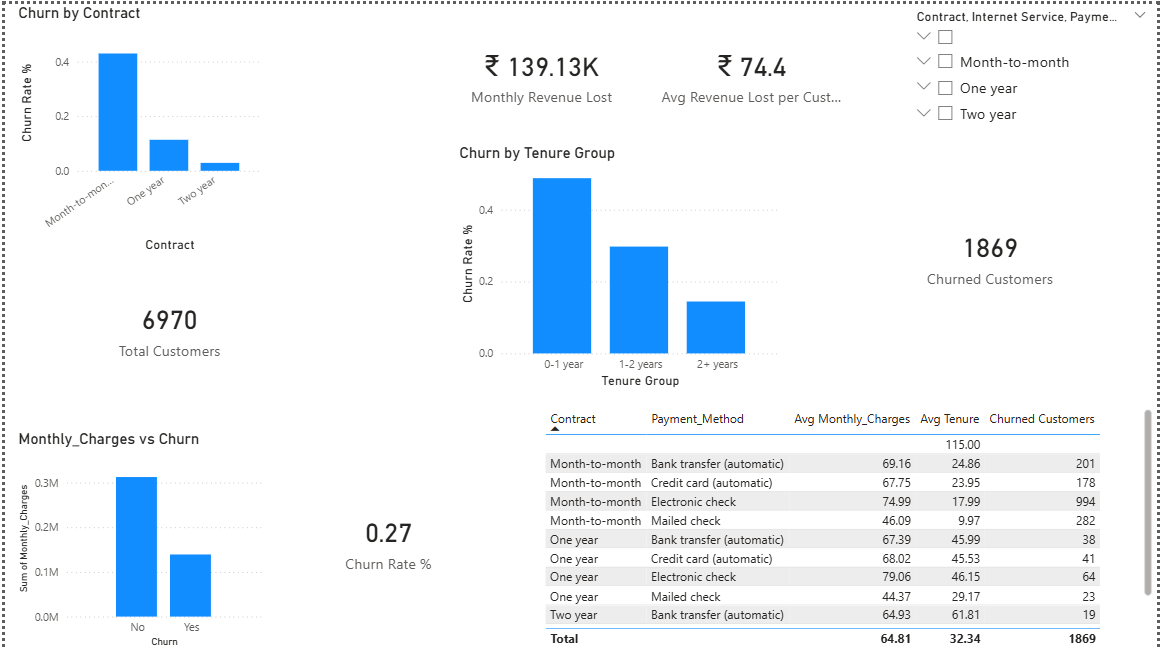

What the dashboard file says about the page in this screenshot:
{"tool":"powerbi","page":{"name":"Page 1","canvas":[1280,720],"ordinal":0},"visuals":[{"type":"clusteredColumnChart","title":"Churn by Contract","fields":{"Category":["customers.Contract"],"Y":["customers.Churn Rate %"]},"box":[10,0,280,280],"z":0},{"type":"clusteredColumnChart","title":"Churn by Tenure Group","fields":{"Category":["customers.Tenure Group"],"Y":["customers.Churn Rate %"]},"box":[500.8,155,364.7,275.9],"z":1000},{"type":"clusteredColumnChart","title":"Monthly_Charges vs Churn","fields":{"Category":["customers.Churn"],"Y":["Sum(customers.Monthly_Charges)"]},"box":[10,474,280,246],"z":2000},{"type":"tableEx","fields":{"Values":["customers.Contract","customers.Payment_Method","Avg(customers.Monthly_Charges)","Avg(customers.Tenure)","customers.Churned Customers"]},"box":[595.1,445.2,684.4,274.1],"z":3000},{"type":"slicer","fields":{"Values":["customers.Contract","customers.Internet Service","customers.Payment_Method","customers.Tenure Group"]},"box":[999.4,0,280.1,154.4],"z":4000},{"type":"card","fields":{"Values":["customers.Total Customers"]},"box":[75.7,301.3,215,116.6],"z":5000},{"type":"card","fields":{"Values":["customers.Churned Customers"]},"box":[987.3,221.1,215,116.6],"z":6000},{"type":"card","fields":{"Values":["customers.Churn Rate %"]},"box":[318,537.5,215,116.6],"z":7000},{"type":"card","fields":{"Values":["customers.Monthly Revenue Lost"]},"box":[487.6,19.7,215,116.6],"z":8000},{"type":"card","fields":{"Values":["customers.Avg Revenue Lost per Customer"]},"box":[722.3,19.7,215,116.6],"z":8001}]}

Visuals, with their boxes in screenshot pixels (x1, y1, x2, y2), scaled from the page's 1280x720 canvas onto the 1161x651 screenshot:
"Churn by Contract" clusteredColumnChart: [9,0,263,253]
"Churn by Tenure Group" clusteredColumnChart: [454,140,785,390]
"Monthly_Charges vs Churn" clusteredColumnChart: [9,429,263,650]
tableEx - customers.Contract x customers.Payment_Method: [540,403,1160,650]
slicer - customers.Contract x customers.Internet Service: [906,0,1160,140]
card - customers.Total Customers: [69,272,264,378]
card - customers.Churned Customers: [896,200,1091,305]
card - customers.Churn Rate %: [288,486,483,591]
card - customers.Monthly Revenue Lost: [442,18,637,123]
card - customers.Avg Revenue Lost per Customer: [655,18,850,123]
